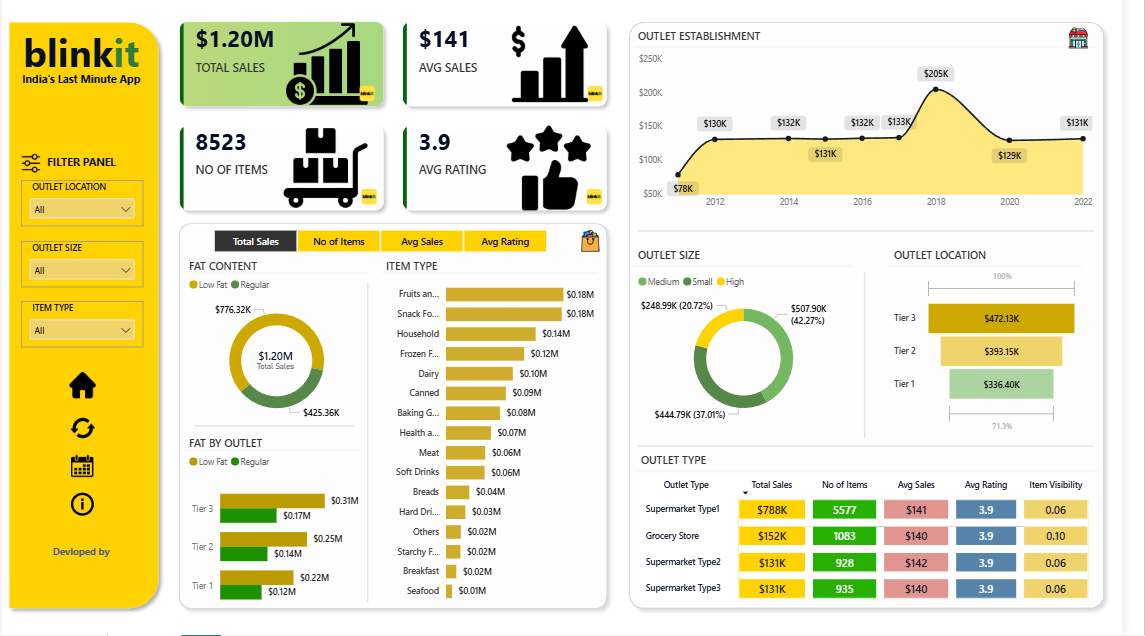

Layout of this report page (visuals, bound fields, positions):
{"tool":"powerbi","page":{"name":"Home","canvas":[1400,800],"ordinal":0},"visuals":[{"type":"shape","box":[0,25.3,205,750.7],"z":0},{"type":"textbox","box":[0,33,198.1,82.1],"z":1000},{"type":"cardVisual","fields":{"Data":["BlinkIT Grocery Data.Total Sum Sales","BlinkIT Grocery Data.Average Sales","BlinkIT Grocery Data.No of Items","BlinkIT Grocery Data.Avg Rating"]},"box":[204.8,15.8,569.7,270.8],"z":2000},{"type":"image","box":[71.4,466.3,58.7,42.6],"z":3000},{"type":"image","box":[74.4,521.1,52.1,39.7],"z":4000},{"type":"image","box":[81.8,568.8,38,39.1],"z":5000},{"type":"shape","box":[774.5,25.5,611.7,751.1],"z":6000},{"type":"areaChart","title":"OUTLET ESTABLISHMENT","fields":{"Y":["BlinkIT Grocery Data.Total Sum Sales"],"Category":["BlinkIT Grocery Data.Outlet Establishment Year2"]},"box":[790.6,42.5,578.3,234],"z":7000},{"type":"textbox","box":[0,89.6,198.1,34],"z":8000},{"type":"donutChart","title":"OUTLET SIZE","fields":{"Category":["BlinkIT Grocery Data.Outlet Size"],"Y":["BlinkIT Grocery Data.Total Sum Sales"]},"box":[790.6,316,273.6,224.5],"z":9000},{"type":"funnel","title":"OUTLET LOCATION","fields":{"Category":["BlinkIT Grocery Data.Outlet Location Type"],"Y":["BlinkIT Grocery Data.Total Sum Sales"]},"box":[1110.4,316,240.6,234],"z":10000},{"type":"pivotTable","title":"OUTLET TYPE","fields":{"Rows":["BlinkIT Grocery Data.Outlet Type"],"Values":["BlinkIT Grocery Data.Total Sum Sales","BlinkIT Grocery Data.No of Items","BlinkIT Grocery Data.Average Sales","BlinkIT Grocery Data.Avg Rating","Avg(BlinkIT Grocery Data.Item Visibility)"]},"box":[793.6,572.3,578.7,197.1],"z":11000},{"type":"shape","box":[793.4,284.9,570.8,19.8],"z":12000},{"type":"shape","box":[1064.2,346.2,29.2,208.5],"z":13000},{"type":"shape","box":[212.8,276.6,553.2,500],"z":14000},{"type":"donutChart","title":"FAT CONTENT","fields":{"Y":["BlinkIT Grocery Data.Total Sum Sales"],"Category":["BlinkIT Grocery Data.Item Fat Content"]},"box":[228.3,330.2,229.2,213.2],"z":15000},{"type":"shape","box":[793.4,553.8,570.8,19.8],"z":16000},{"type":"cardVisual","fields":{"Data":["BlinkIT Grocery Data.Total Sum Sales"]},"box":[291.9,428.1,102,54.5],"z":17000},{"type":"slicer","fields":{"Values":["Metric.Metric"]},"box":[240,287.5,464.2,39.6],"z":18000},{"type":"barChart","title":"ITEM TYPE","fields":{"Y":["BlinkIT Grocery Data.Total Sum Sales"],"Category":["BlinkIT Grocery Data.Item Type"]},"box":[475.3,330.2,269.8,438.1],"z":19000},{"type":"shape","box":[442.5,360.4,29.2,399.1],"z":20000},{"type":"clusteredBarChart","title":"FAT BY OUTLET","fields":{"Y":["BlinkIT Grocery Data.Total Sum Sales"],"Category":["BlinkIT Grocery Data.Outlet Location Type"],"Series":["BlinkIT Grocery Data.Item Fat Content"]},"box":[228.3,550.9,221.7,229.2],"z":21000},{"type":"shape","box":[239.6,529.2,200,19.8],"z":22000},{"type":"image","box":[725.5,108.5,33,29.2],"z":23000},{"type":"image","box":[723.6,237.7,33,29.2],"z":24000},{"type":"image","box":[442.5,237.7,33,29.2],"z":25000},{"type":"image","box":[440.6,108.5,33,29.2],"z":26000},{"type":"image","box":[715.6,289.2,41.3,36.9],"z":27000},{"type":"image","box":[1327.5,33.4,36,40.4],"z":28000},{"type":"slicer","fields":{"Values":["BlinkIT Grocery Data.Outlet Location Type"]},"box":[23.7,231.2,153,58],"z":29000},{"type":"slicer","fields":{"Values":["BlinkIT Grocery Data.Outlet Size"]},"box":[23.7,307.7,153,58],"z":30000},{"type":"slicer","fields":{"Values":["BlinkIT Grocery Data.Item Type"]},"box":[23.7,382.4,153,58],"z":31000},{"type":"textbox","box":[36.8,193.4,126.4,31.1],"z":32000},{"type":"image","box":[18.9,184,34.9,53.8],"z":33000},{"type":"textbox","box":[36.8,680.5,125.5,28.8],"z":34000},{"type":"actionButton","box":[80.6,616.6,38.5,39.7],"z":38000}]}

Visuals, with their boxes in screenshot pixels (x1, y1, x2, y2), scaled from the page's 1400x800 canvas onto the 1145x636 screenshot:
shape: box=[0, 20, 168, 617]
textbox: box=[0, 26, 162, 92]
cardVisual - BlinkIT Grocery Data.Total Sum Sales x BlinkIT Grocery Data.Average Sales: box=[167, 13, 633, 228]
image: box=[58, 371, 106, 405]
image: box=[61, 414, 103, 446]
image: box=[67, 452, 98, 483]
shape: box=[633, 20, 1134, 617]
"OUTLET ESTABLISHMENT" areaChart: box=[647, 34, 1120, 220]
textbox: box=[0, 71, 162, 98]
"OUTLET SIZE" donutChart: box=[647, 251, 870, 430]
"OUTLET LOCATION" funnel: box=[908, 251, 1105, 437]
"OUTLET TYPE" pivotTable: box=[649, 455, 1122, 612]
shape: box=[649, 226, 1116, 242]
shape: box=[870, 275, 894, 441]
shape: box=[174, 220, 626, 617]
"FAT CONTENT" donutChart: box=[187, 263, 374, 432]
shape: box=[649, 440, 1116, 456]
cardVisual - BlinkIT Grocery Data.Total Sum Sales: box=[239, 340, 322, 384]
slicer - Metric.Metric: box=[196, 229, 576, 260]
"ITEM TYPE" barChart: box=[389, 263, 609, 611]
shape: box=[362, 287, 386, 604]
"FAT BY OUTLET" clusteredBarChart: box=[187, 438, 368, 620]
shape: box=[196, 421, 360, 436]
image: box=[593, 86, 620, 109]
image: box=[592, 189, 619, 212]
image: box=[362, 189, 389, 212]
image: box=[360, 86, 387, 109]
image: box=[585, 230, 619, 259]
image: box=[1086, 27, 1115, 59]
slicer - BlinkIT Grocery Data.Outlet Location Type: box=[19, 184, 145, 230]
slicer - BlinkIT Grocery Data.Outlet Size: box=[19, 245, 145, 291]
slicer - BlinkIT Grocery Data.Item Type: box=[19, 304, 145, 350]
textbox: box=[30, 154, 133, 178]
image: box=[15, 146, 44, 189]
textbox: box=[30, 541, 133, 564]
actionButton: box=[66, 490, 97, 522]
